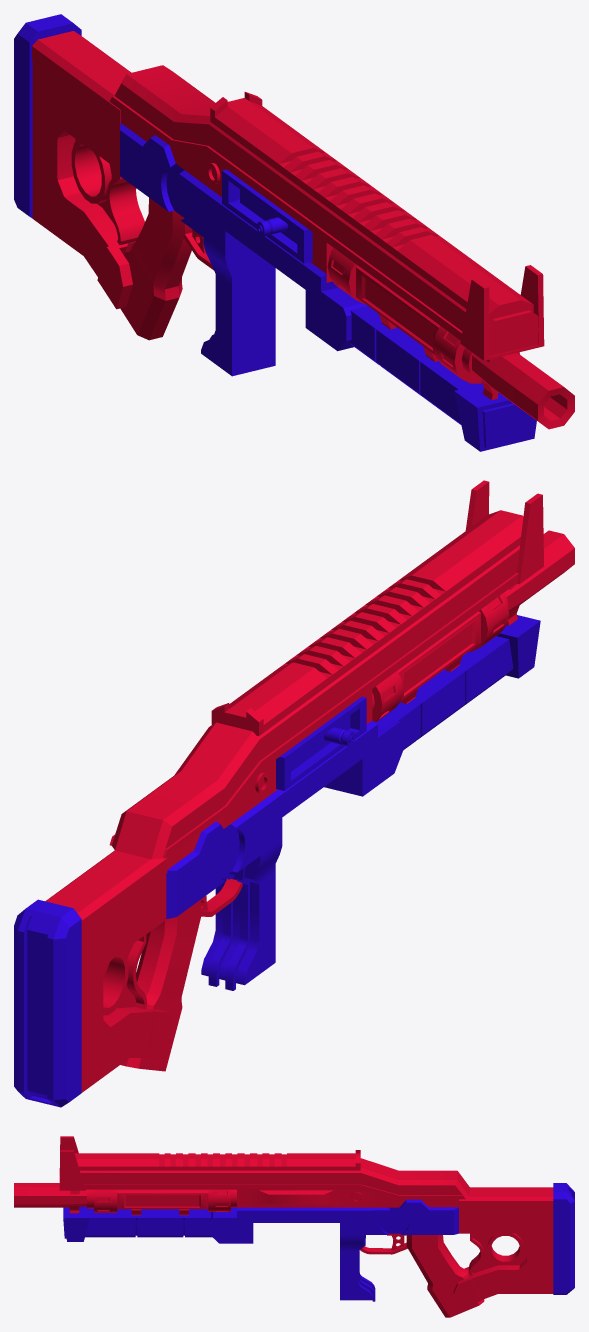
Rendered from shotgun1.fbx.
3 renders of one model, top to bottom at view 1: azimuth 30°, elevation 25°; view 2: azimuth 150°, elevation 25°; view 3: azimuth 270°, elevation 25°, orthographic. The views are drawn at different scales.
Visible parts, largest first — view 1: Main, huinya, Zat; view 2: Main, huinya, Zat; view 3: Main, huinya.
Part boxes in pixels (left/top/right/bottom): Main: left=14, top=14, right=574, bottom=451; huinya: left=210, top=92, right=533, bottom=322; Zat: left=240, top=189, right=297, bottom=243; Main: left=14, top=480, right=574, bottom=1107; huinya: left=211, top=510, right=523, bottom=735; Zat: left=291, top=715, right=354, bottom=771; Main: left=14, top=1136, right=574, bottom=1317; huinya: left=74, top=1150, right=360, bottom=1170.
Size of the model in its own units: 6.1 by 23.75 by 70.26.
